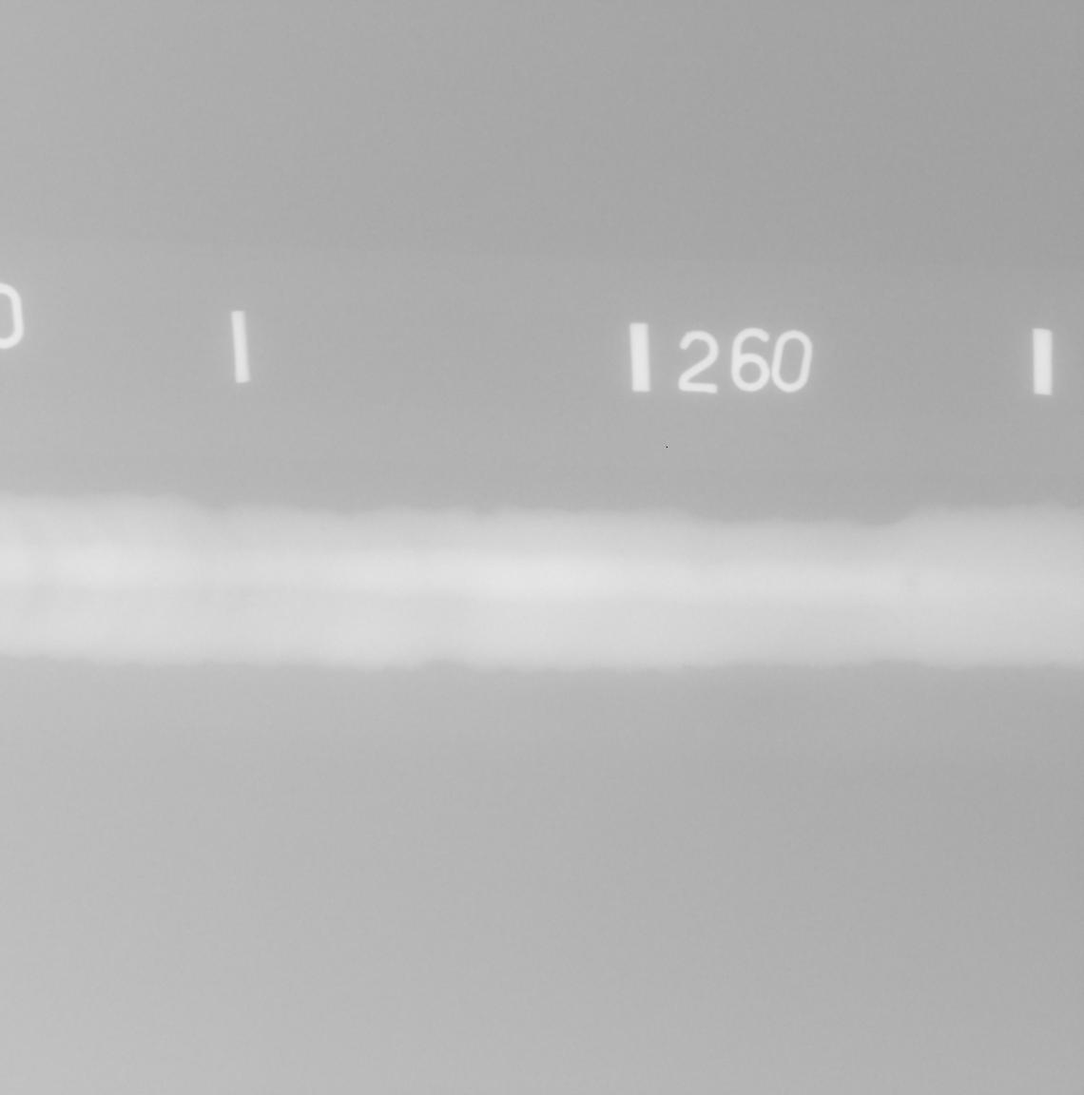Pore/Porosity: (153, 577, 157, 581)
